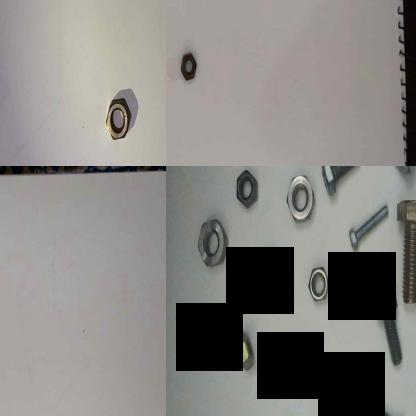Bolts: (392, 195, 416, 307), (374, 294, 405, 368), (348, 202, 390, 254), (319, 166, 363, 197), (361, 392, 409, 416)
NUTS: (194, 212, 232, 272), (230, 324, 260, 384), (285, 166, 315, 226), (278, 344, 312, 387), (102, 96, 132, 144), (304, 258, 330, 306), (254, 250, 280, 298), (233, 166, 259, 210), (180, 50, 198, 84)
